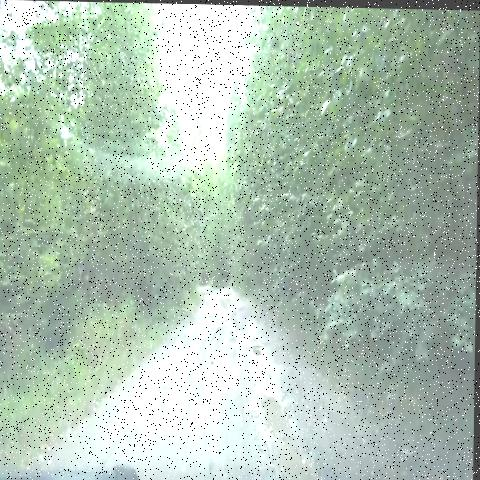pothole: (241, 378, 309, 449), (190, 309, 218, 336), (245, 332, 271, 359), (187, 348, 206, 384), (205, 289, 221, 313)
